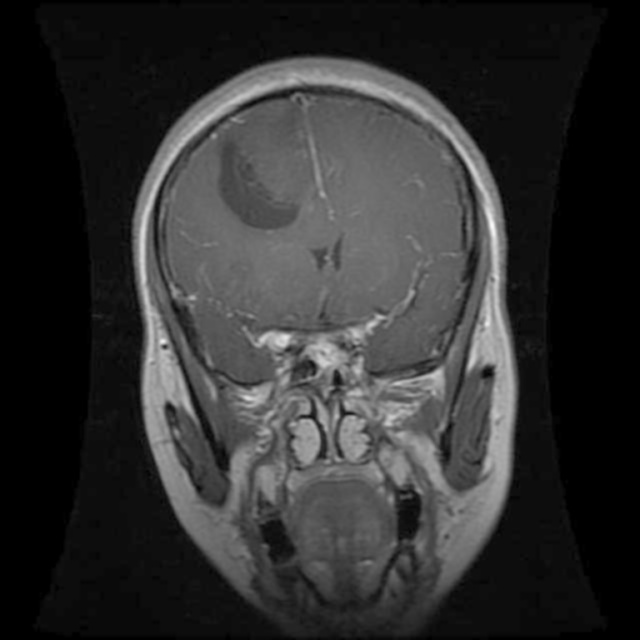pituitary tumor: (272, 313, 378, 362)
